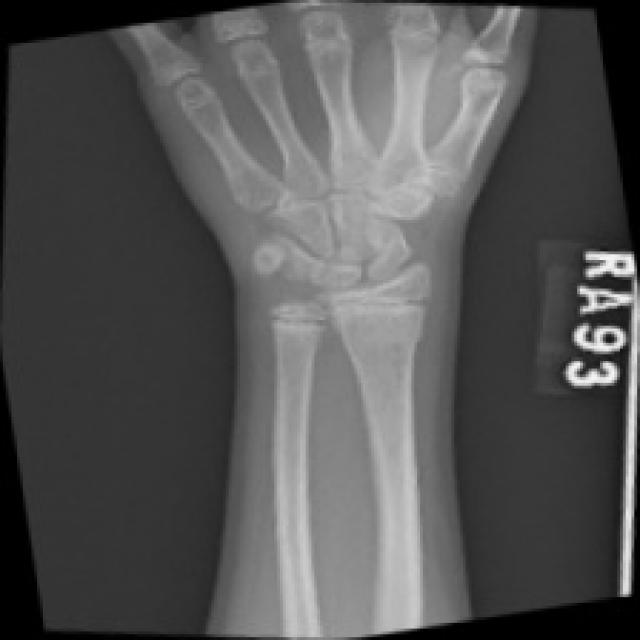fracture: (402, 150, 528, 241)
